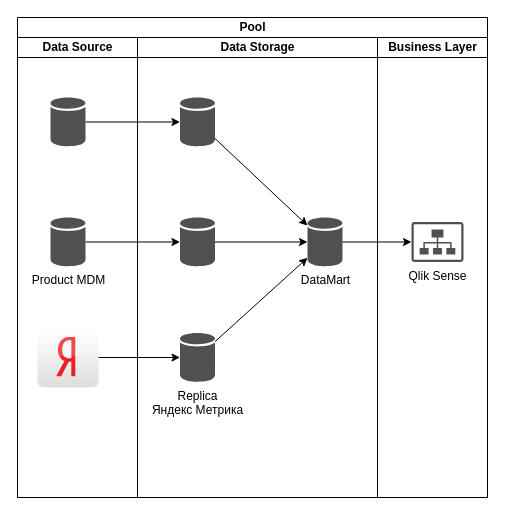
This 505x515 diagram has some shape labels left out. The centre of each missing label's shape, as x and y in pixels:
Customer MDM: the point at 67,121
Replica Customer MDM: the point at 197,121
Replica Product MDM: the point at 197,241
Янедекс Метрика: the point at 67,357
